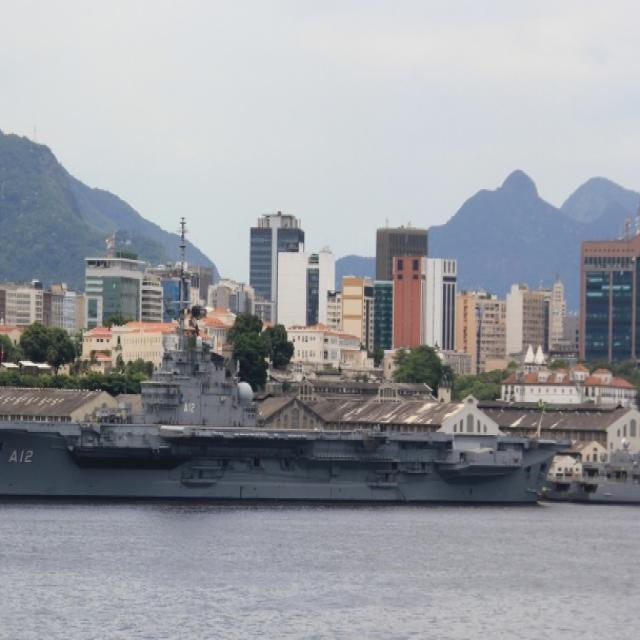Portanaves: (1, 220, 565, 515)
